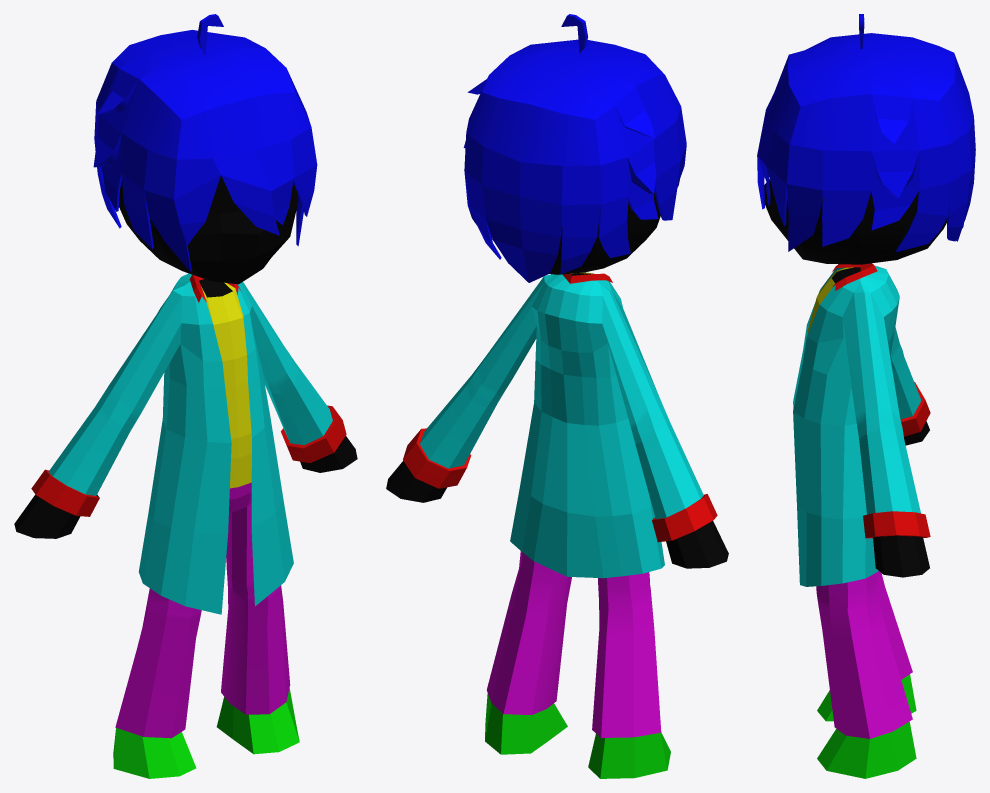
File: THERAPIST.fbx
3 renders of one model, left to right at view 1: azimuth 30°, elevation 25°; view 2: azimuth 150°, elevation 25°; view 3: azimuth 270°, elevation 25°, orthographic.
Parts seen in each view (by area): view 1: pCylinder15; view 2: pCylinder15; view 3: pCylinder15.
Boxes of the visible parts, box(x1,y1,x2,y2) form: pCylinder15: box(14, 14, 357, 778); pCylinder15: box(386, 14, 728, 778); pCylinder15: box(757, 14, 975, 778).
Size of the model in its own units: 215 by 443 by 122.
